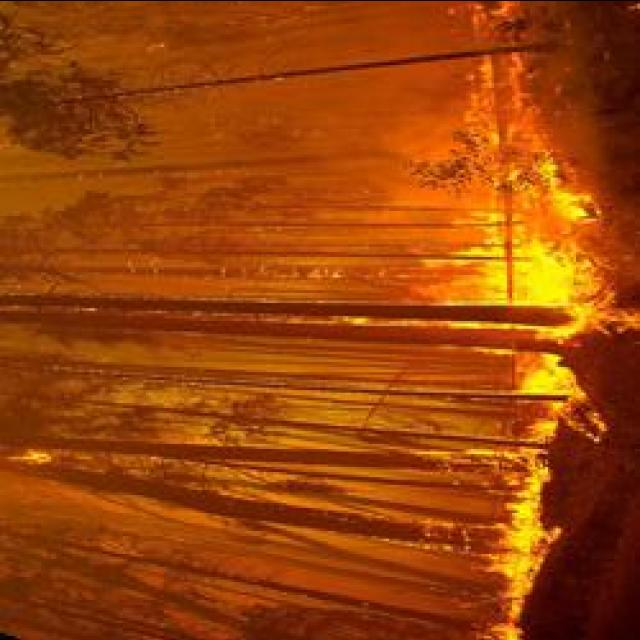fire: (488, 493, 544, 590), (439, 244, 511, 302), (518, 242, 570, 306), (517, 350, 577, 391), (557, 192, 598, 220)
